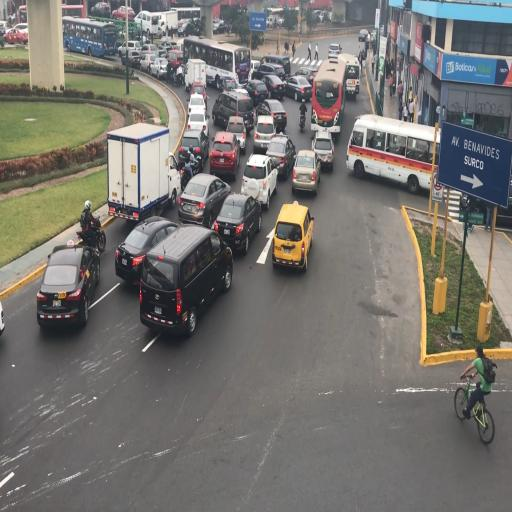auto: (139, 226, 230, 338), (36, 242, 98, 329), (115, 215, 181, 287), (177, 172, 230, 228), (215, 192, 261, 254), (272, 201, 312, 270), (239, 153, 276, 210), (214, 88, 254, 134), (209, 131, 241, 179), (265, 133, 296, 180), (290, 148, 320, 195), (178, 128, 208, 170), (256, 98, 288, 132), (311, 129, 334, 172), (253, 113, 277, 154), (225, 115, 248, 155), (258, 73, 286, 100), (285, 74, 311, 102), (186, 100, 208, 133), (294, 61, 320, 87), (256, 62, 286, 84), (147, 56, 170, 80), (3, 24, 28, 44), (166, 47, 185, 73), (140, 51, 159, 75), (119, 40, 142, 58), (111, 5, 134, 21), (90, 1, 111, 18), (133, 11, 148, 30), (140, 44, 159, 58), (157, 40, 175, 54), (213, 17, 226, 33), (328, 42, 342, 56), (358, 28, 370, 42)
bus: (349, 114, 441, 194), (185, 36, 246, 89), (312, 56, 347, 136), (63, 17, 117, 58), (169, 6, 204, 36), (134, 10, 166, 39), (343, 55, 361, 95), (18, 4, 27, 24)
camion: (105, 122, 170, 226), (184, 58, 206, 94)
moto: (76, 212, 106, 254), (299, 108, 306, 131)
